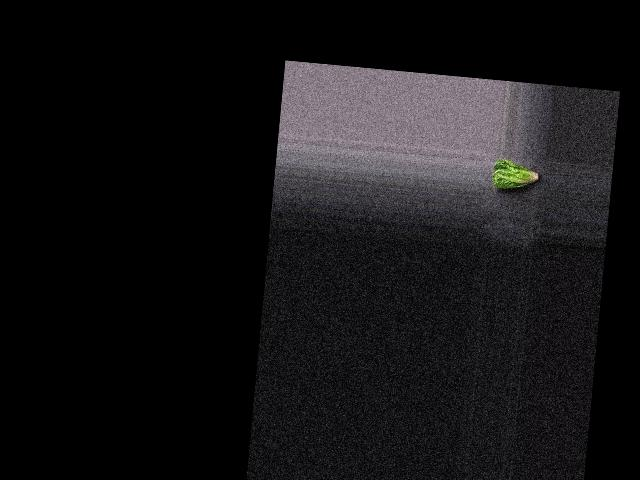lettuce: (491, 157, 543, 194)
